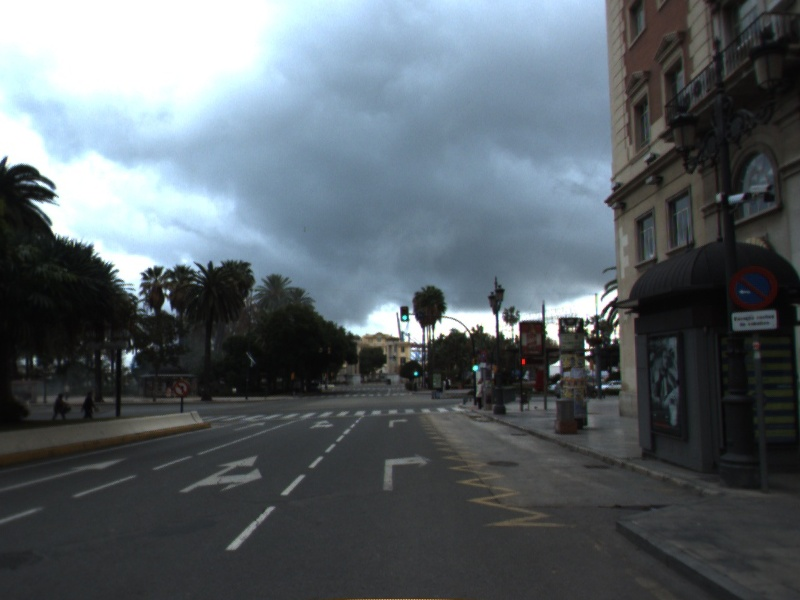RIGHT: (380, 450, 437, 494), (386, 416, 411, 429)
STRAIGHT: (1, 453, 133, 497), (231, 420, 268, 433)
STRAIGHT_RIGHT: (177, 452, 265, 495), (307, 418, 336, 431)
